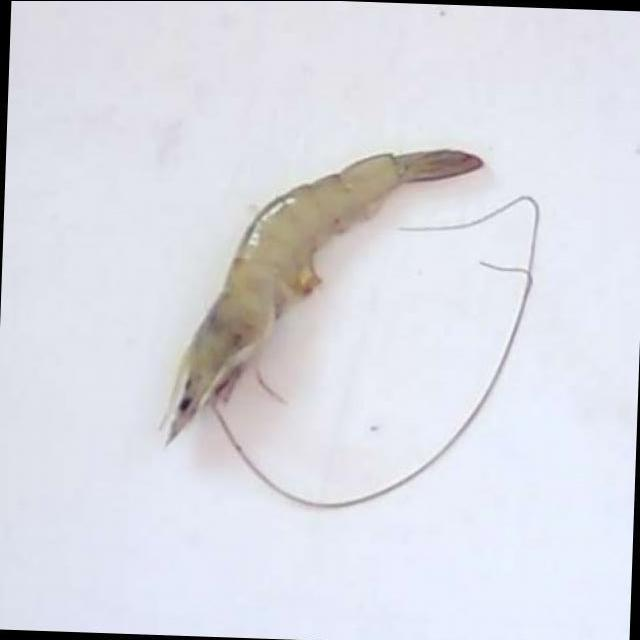shrimp: (161, 150, 482, 443)
